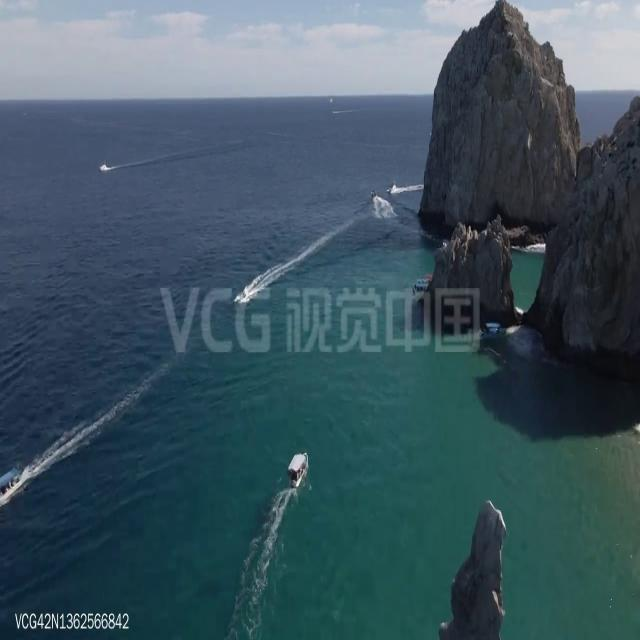houseboat: (0, 462, 24, 508), (288, 448, 310, 490), (478, 317, 507, 344), (412, 271, 430, 296), (241, 284, 251, 302), (387, 181, 397, 198), (370, 186, 378, 206), (98, 162, 107, 172)
